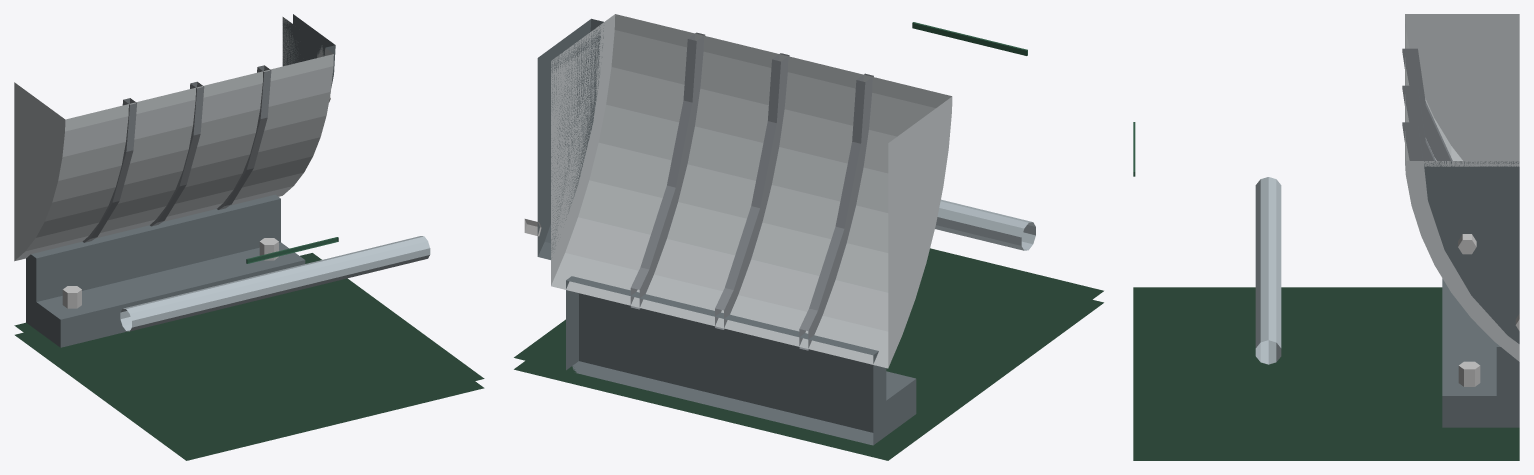
File: cell_23.obj
3 views of the same model, side by side, from view 1: azimuth 30°, elevation 25°; view 2: azimuth 150°, elevation 25°; view 3: azimuth 270°, elevation 25° (orthographic). The views are drawn at different scales.
Bounding box in the file's own units: 1 × 0.81 × 1.
